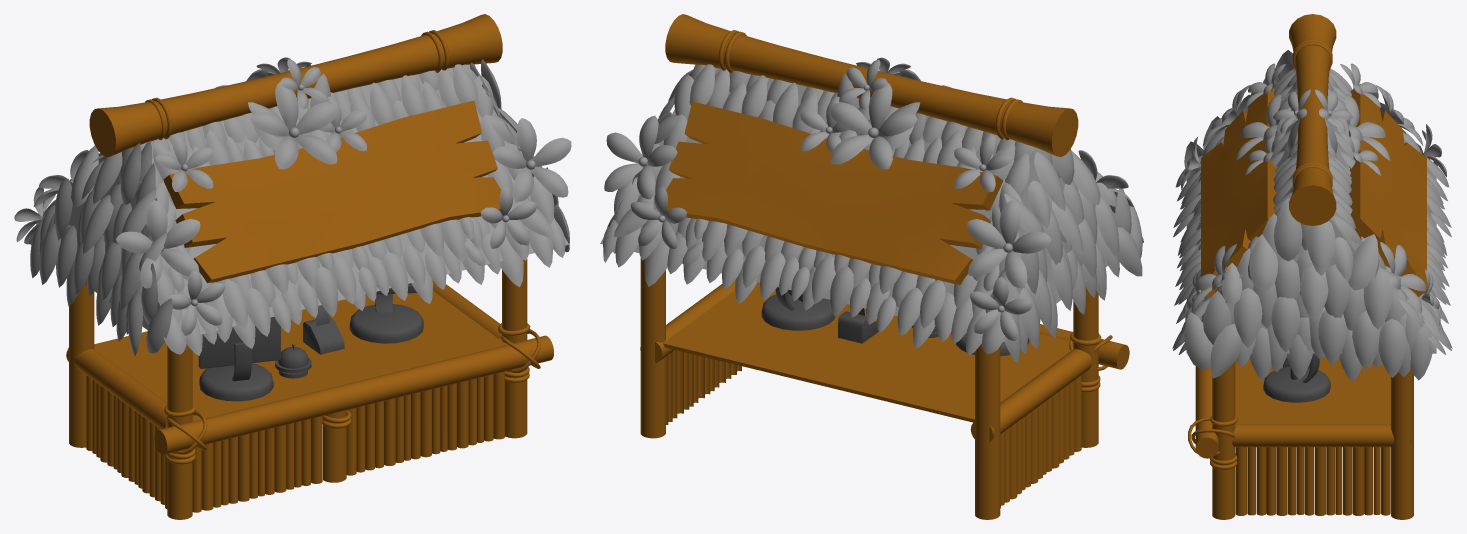
Rendered from Counter.FBX.
3 renders of one model, left to right at view 1: azimuth 30°, elevation 25°; view 2: azimuth 150°, elevation 25°; view 3: azimuth 270°, elevation 25°, orthographic. The views are drawn at different scales.
Parts seen in each view (by area): view 1: Plane003, Box002, Cylinder044, Plane026, Box001, Cylinder047, Cylinder042, Cylinder043, Cylinder040, Cylinder049, Plane008, Plane012 (+18 smaller); view 2: Plane017, Box006, Box001, Plane026, Cylinder047, Cylinder043, Cylinder040, Plane018, Plane023, Cylinder046, Plane021, Cylinder039 (+13 smaller); view 3: Plane006, Cylinder046, Box006, Box002, Box001, Plane017, Cylinder047, Cylinder043, Plane003, Cylinder045, Cylinder050, Cylinder042 (+21 smaller).
Boxes of the visible parts, bbox=[...] form: Plane003: bbox=[140, 64, 565, 355]; Box002: bbox=[163, 100, 501, 282]; Cylinder044: bbox=[192, 371, 504, 512]; Plane026: bbox=[30, 140, 172, 356]; Box001: bbox=[94, 291, 507, 421]; Cylinder047: bbox=[89, 14, 502, 157]; Cylinder042: bbox=[154, 335, 553, 454]; Cylinder043: bbox=[69, 259, 527, 519]; Cylinder040: bbox=[86, 375, 167, 508]; Cylinder049: bbox=[198, 316, 280, 401]; Plane008: bbox=[250, 82, 337, 169]; Plane012: bbox=[493, 118, 571, 201]; Plane017: bbox=[603, 64, 1034, 355]; Box006: bbox=[655, 101, 1002, 284]; Box001: bbox=[663, 282, 1073, 422]; Plane026: bbox=[999, 147, 1142, 363]; Cylinder047: bbox=[665, 14, 1078, 156]; Cylinder043: bbox=[640, 257, 1098, 519]; Cylinder040: bbox=[1000, 375, 1081, 508]; Plane018: bbox=[830, 82, 917, 169]; Plane023: bbox=[967, 200, 1051, 288]; Cylinder046: bbox=[666, 350, 741, 424]; Plane021: bbox=[604, 115, 677, 199]; Cylinder039: bbox=[970, 349, 1091, 441]; Plane006: bbox=[1184, 197, 1432, 381]; Cylinder046: bbox=[1235, 447, 1390, 515]; Box006: bbox=[1349, 84, 1426, 296]; Box002: bbox=[1201, 85, 1277, 297]; Box001: bbox=[1235, 356, 1390, 424]; Plane017: bbox=[1324, 68, 1452, 354]; Cylinder047: bbox=[1289, 14, 1336, 225]; Cylinder043: bbox=[1212, 361, 1413, 519]; Plane003: bbox=[1172, 68, 1300, 354]; Cylinder045: bbox=[1231, 424, 1411, 447]; Cylinder050: bbox=[1263, 353, 1330, 402]; Cylinder042: bbox=[1195, 366, 1218, 458].
Size of the model in its own units: 149 by 122 by 89.38.
